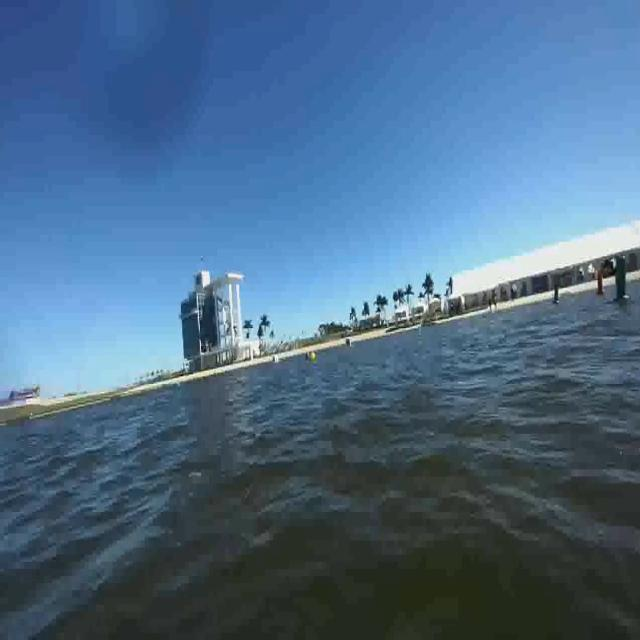green-column-buoy: (614, 252, 632, 304)
red-column-buoy: (592, 268, 604, 298)
yellow-buoy: (308, 351, 314, 363)
